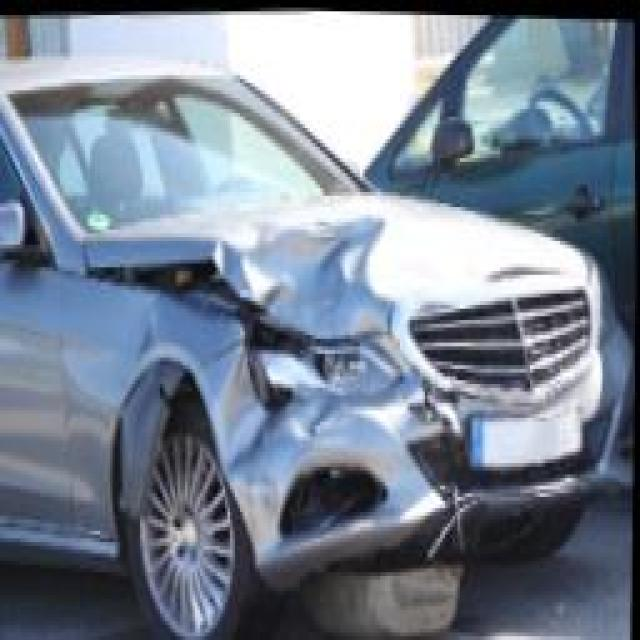Bonnet: (138, 177, 419, 339)
Bumper: (218, 354, 485, 572)
Fender: (60, 271, 224, 445)
Light: (242, 316, 399, 411)
